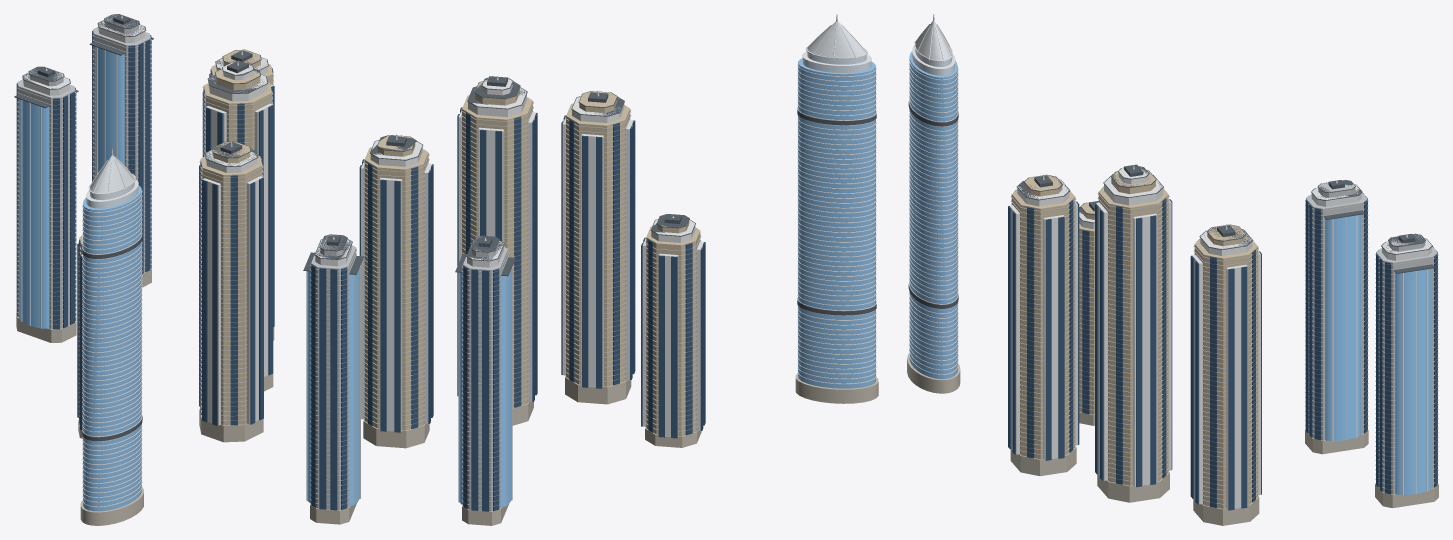
The model's file is tower-palace.glb.
3 views of the same model, side by side, from view 1: azimuth 30°, elevation 25°; view 2: azimuth 150°, elevation 25°; view 3: azimuth 270°, elevation 25° (orthographic). The views are drawn at different scales.
Bounding box in the file's own units: 259 × 264 × 350.
